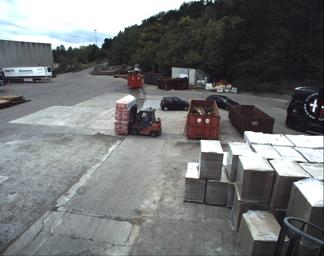rockwool_batts: (114, 94, 134, 131)
